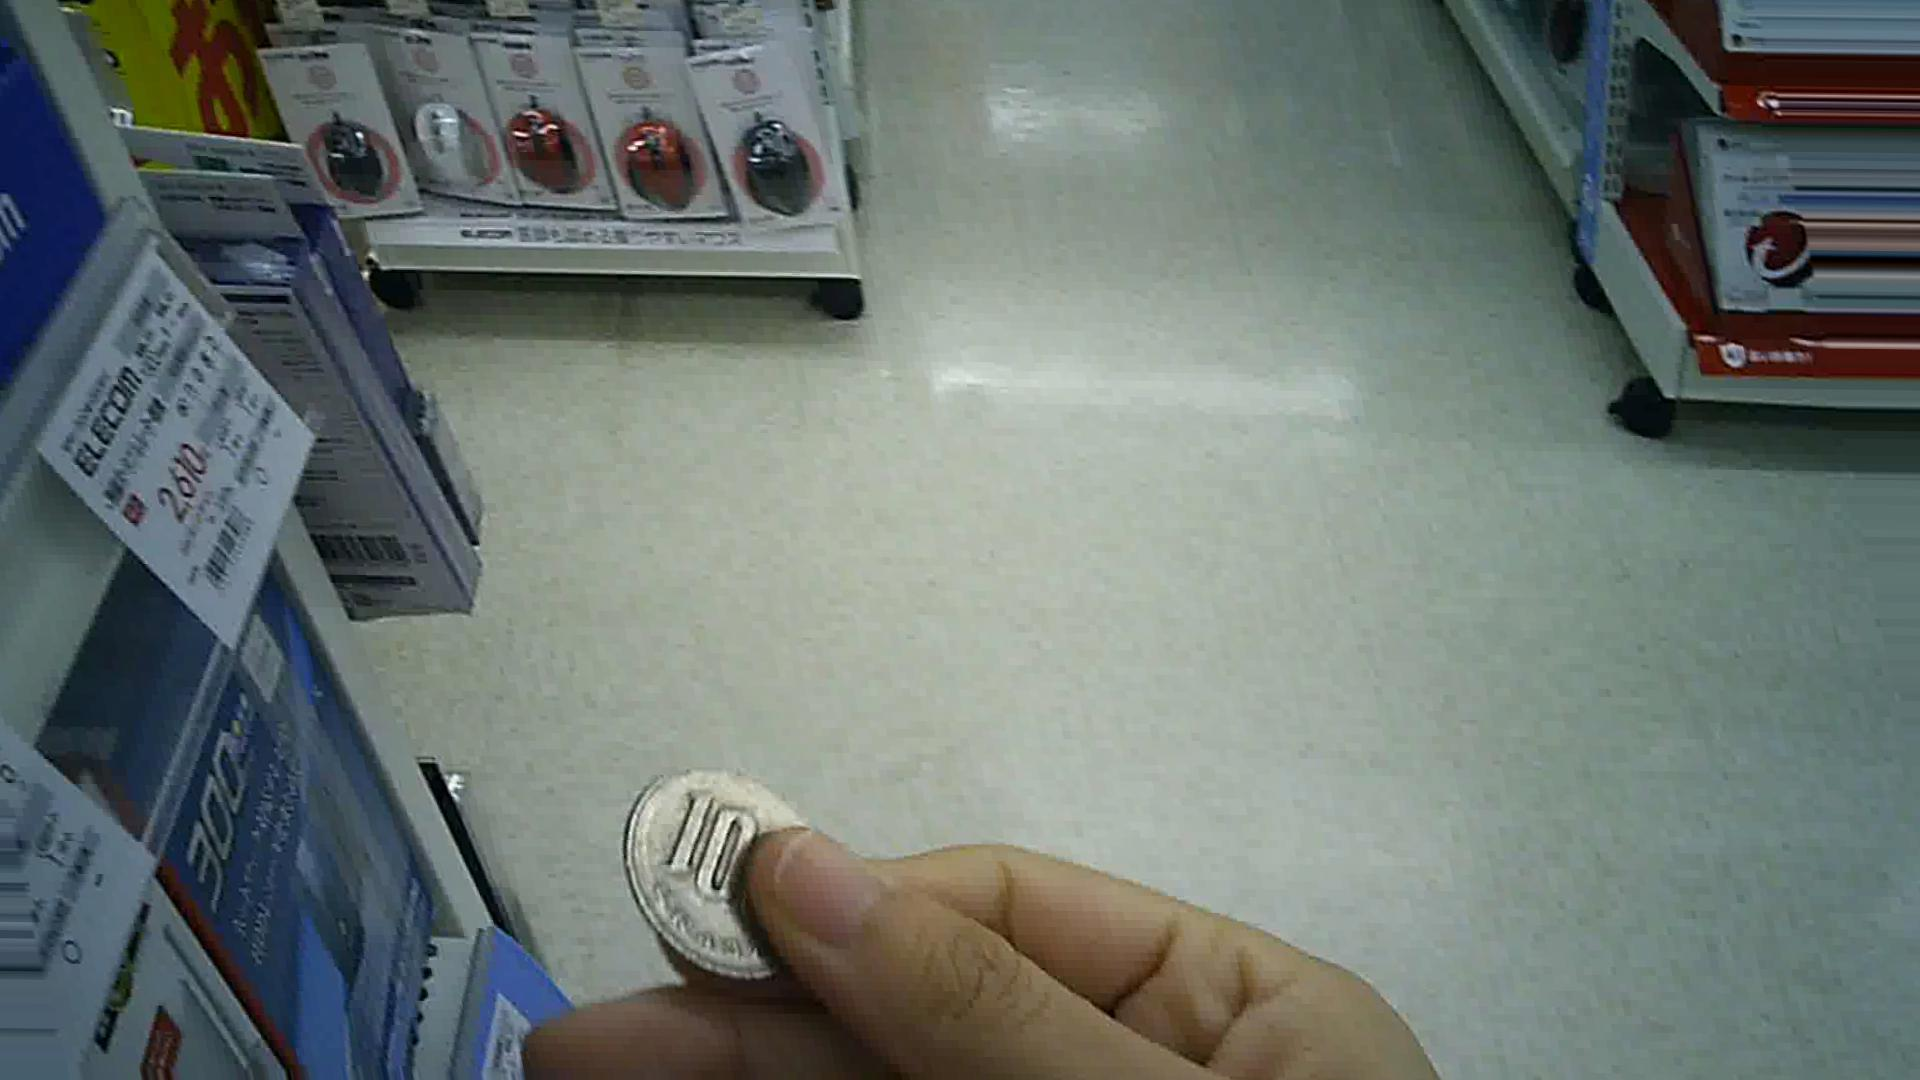100 Yen: (613, 764, 811, 988)
